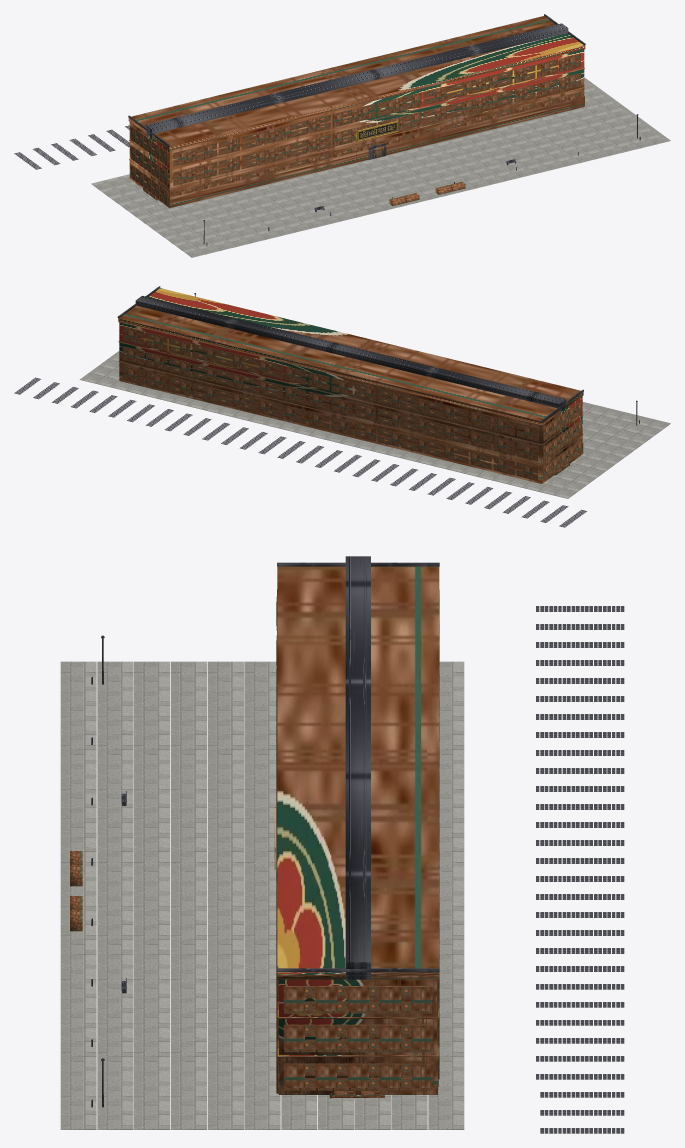
3 renders of one model, top to bottom at view 1: azimuth 30°, elevation 25°; view 2: azimuth 150°, elevation 25°; view 3: azimuth 270°, elevation 25°, orthographic. The views are drawn at different scales.
Parts seen in each view (by area): view 1: 11140_02_04548_030_02__mass_body_facade, 11140_02_04548_030_01__plinth_ground_base, 11140_02_04548_030_03__roof_metal_ornament, 11140_02_04548_030_05__window_sash_glass, 11140_02_04548_030_03__roof_deck_structure, 11140_02_04548_030_06__landscape_greenery, 11140_02_04548_030_04__sign_board, 11140_02_04548_030_05__door_hardware_iron; view 2: 11140_02_04548_030_02__mass_body_facade, 11140_02_04548_030_01__plinth_ground_base, 11140_02_04548_030_03__roof_metal_ornament, 11140_02_04548_030_03__roof_deck_structure; view 3: 11140_02_04548_030_01__plinth_ground_base, 11140_02_04548_030_02__mass_body_facade, 11140_02_04548_030_03__roof_deck_structure, 11140_02_04548_030_03__roof_metal_ornament, 11140_02_04548_030_06__landscape_greenery.
Part boxes in pixels (x1,y1,x2,y2): 11140_02_04548_030_02__mass_body_facade: [128, 16, 585, 208]; 11140_02_04548_030_01__plinth_ground_base: [91, 77, 670, 257]; 11140_02_04548_030_03__roof_metal_ornament: [128, 14, 585, 146]; 11140_02_04548_030_05__window_sash_glass: [186, 56, 568, 193]; 11140_02_04548_030_03__roof_deck_structure: [14, 125, 129, 169]; 11140_02_04548_030_06__landscape_greenery: [389, 181, 465, 205]; 11140_02_04548_030_04__sign_board: [357, 121, 398, 140]; 11140_02_04548_030_05__door_hardware_iron: [203, 114, 640, 245]; 11140_02_04548_030_02__mass_body_facade: [118, 288, 583, 483]; 11140_02_04548_030_01__plinth_ground_base: [79, 351, 670, 498]; 11140_02_04548_030_03__roof_metal_ornament: [117, 286, 583, 421]; 11140_02_04548_030_03__roof_deck_structure: [14, 377, 587, 527]; 11140_02_04548_030_01__plinth_ground_base: [60, 661, 464, 1129]; 11140_02_04548_030_02__mass_body_facade: [276, 566, 439, 1098]; 11140_02_04548_030_03__roof_deck_structure: [536, 606, 624, 1133]; 11140_02_04548_030_03__roof_metal_ornament: [277, 556, 439, 979]; 11140_02_04548_030_06__landscape_greenery: [70, 851, 82, 931].
Size of the model in its own units: 117 by 14.2 by 52.98.
7 materials, 7 textured.
